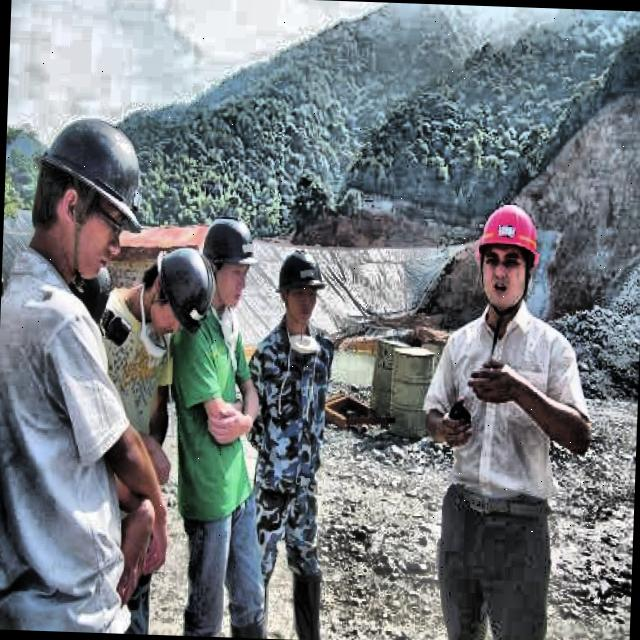helmet: (26, 101, 156, 281), (463, 193, 547, 325), (138, 238, 220, 343), (197, 208, 260, 312), (274, 246, 326, 325)
